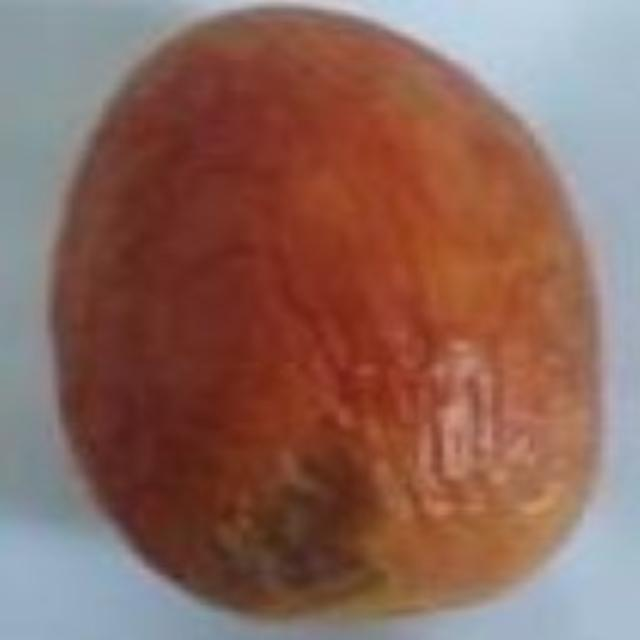defect: (52, 3, 608, 619)
